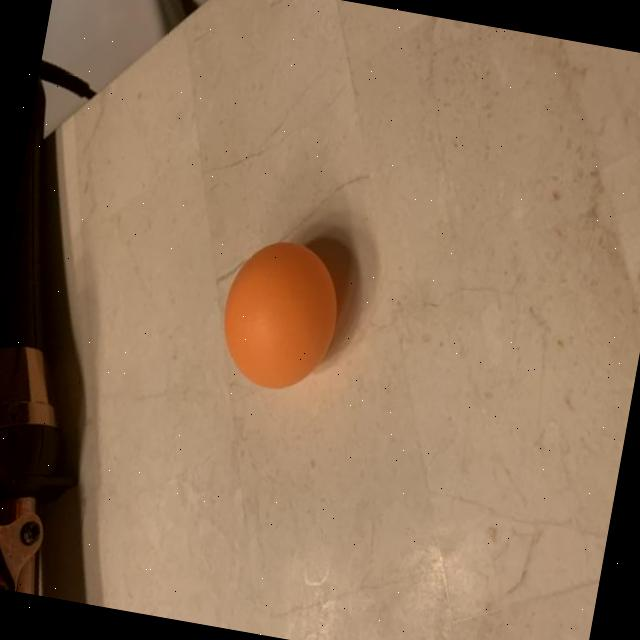ping-pong-ball: (204, 224, 358, 406)
